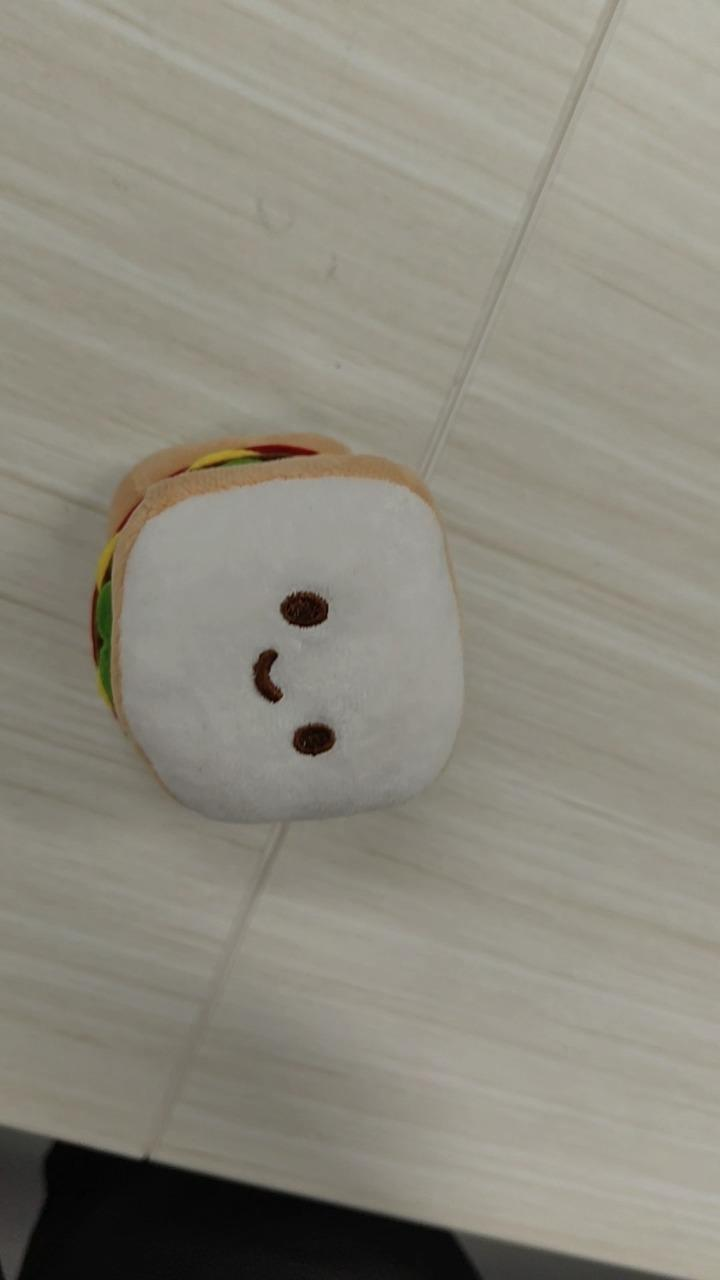objects: (89, 431, 467, 824)
